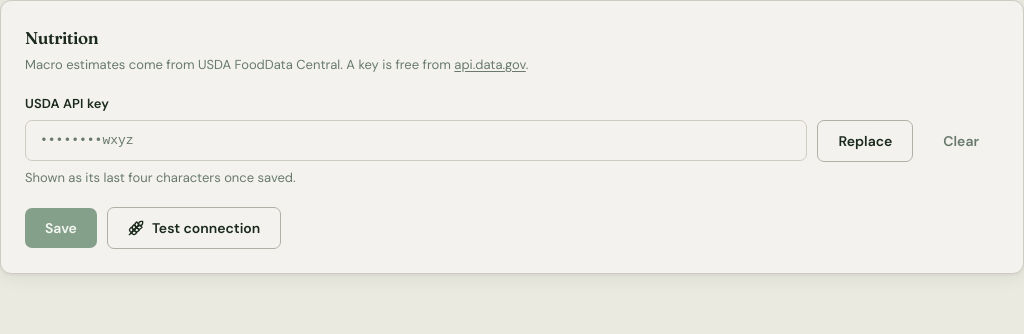
Scenario: NutritionSettingsPanel › runs the usda connection test
Click the button "Test connection". click: (194, 228)
box: [107,207,281,249]
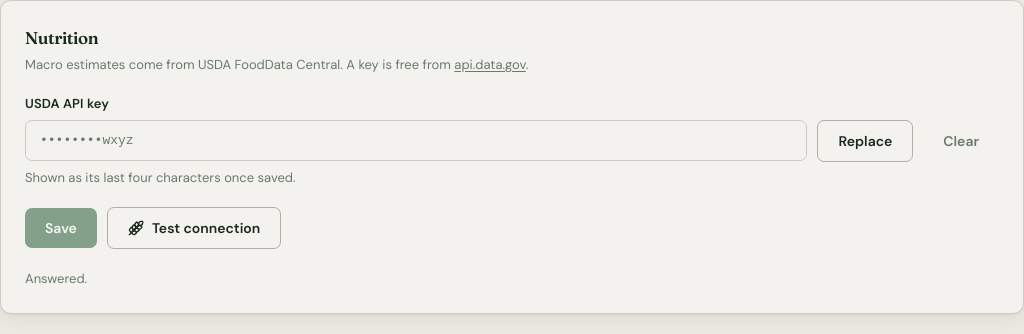
Result: the text "Answered." is shown at [25,270,87,287]
